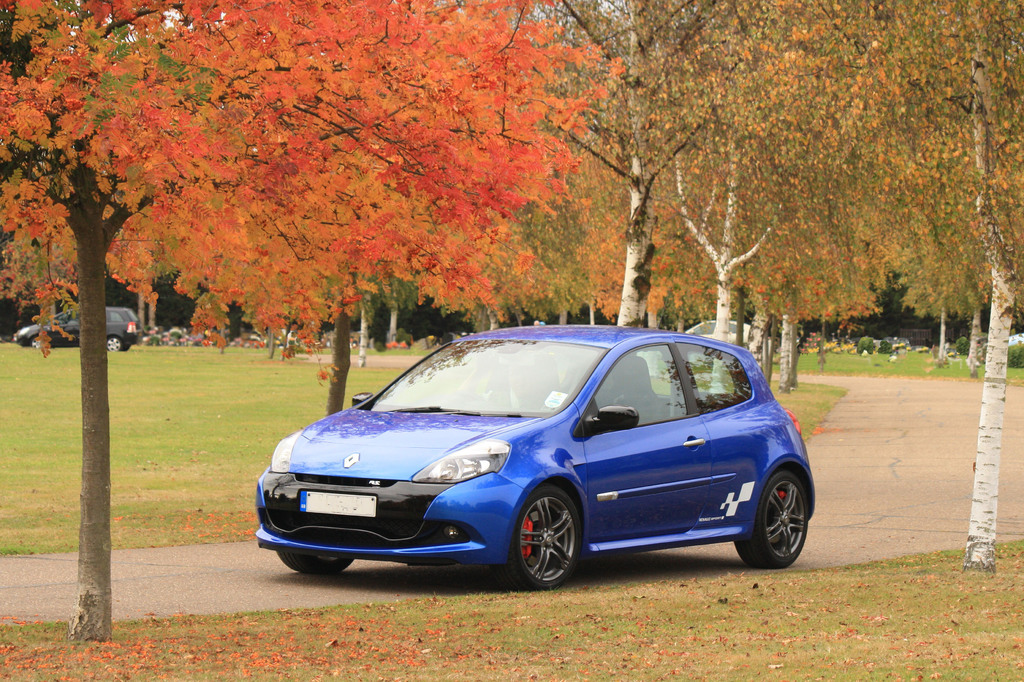Tree: (0, 0, 1024, 643)
